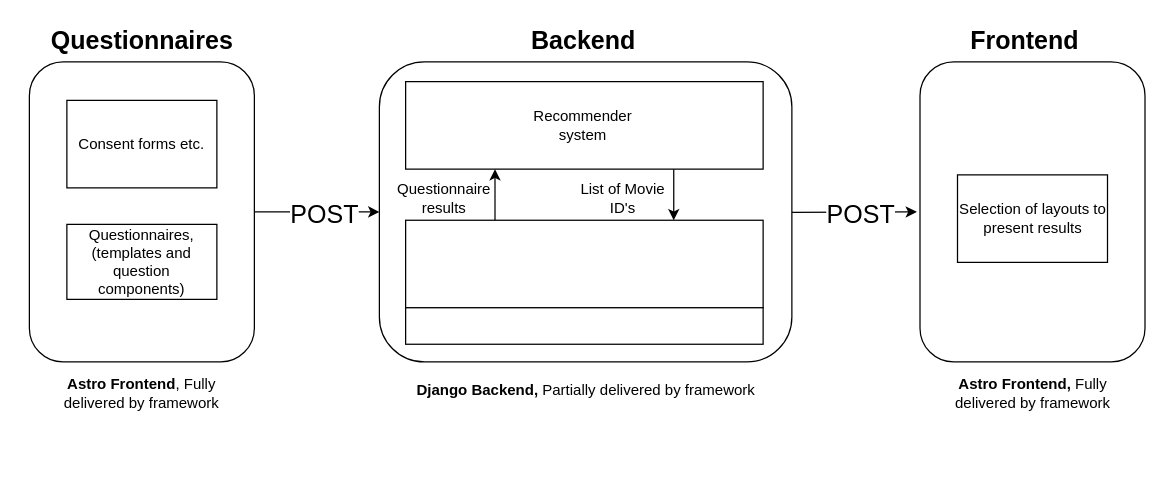
Image size: 1168x481. Some labels were removed from this diagram. Each missing label, with the box of its shape:
Database: (404, 306, 763, 344)
Django Web: (404, 219, 763, 308)
